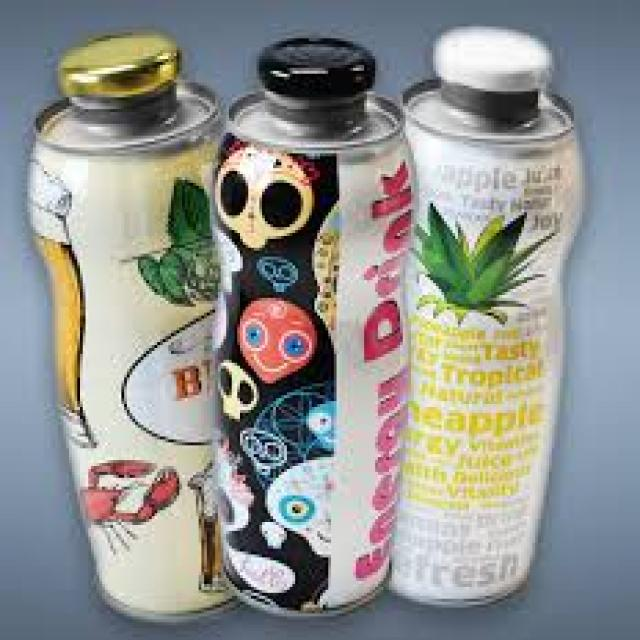Cans: (19, 88, 234, 620), (389, 76, 596, 604), (204, 88, 406, 620)
